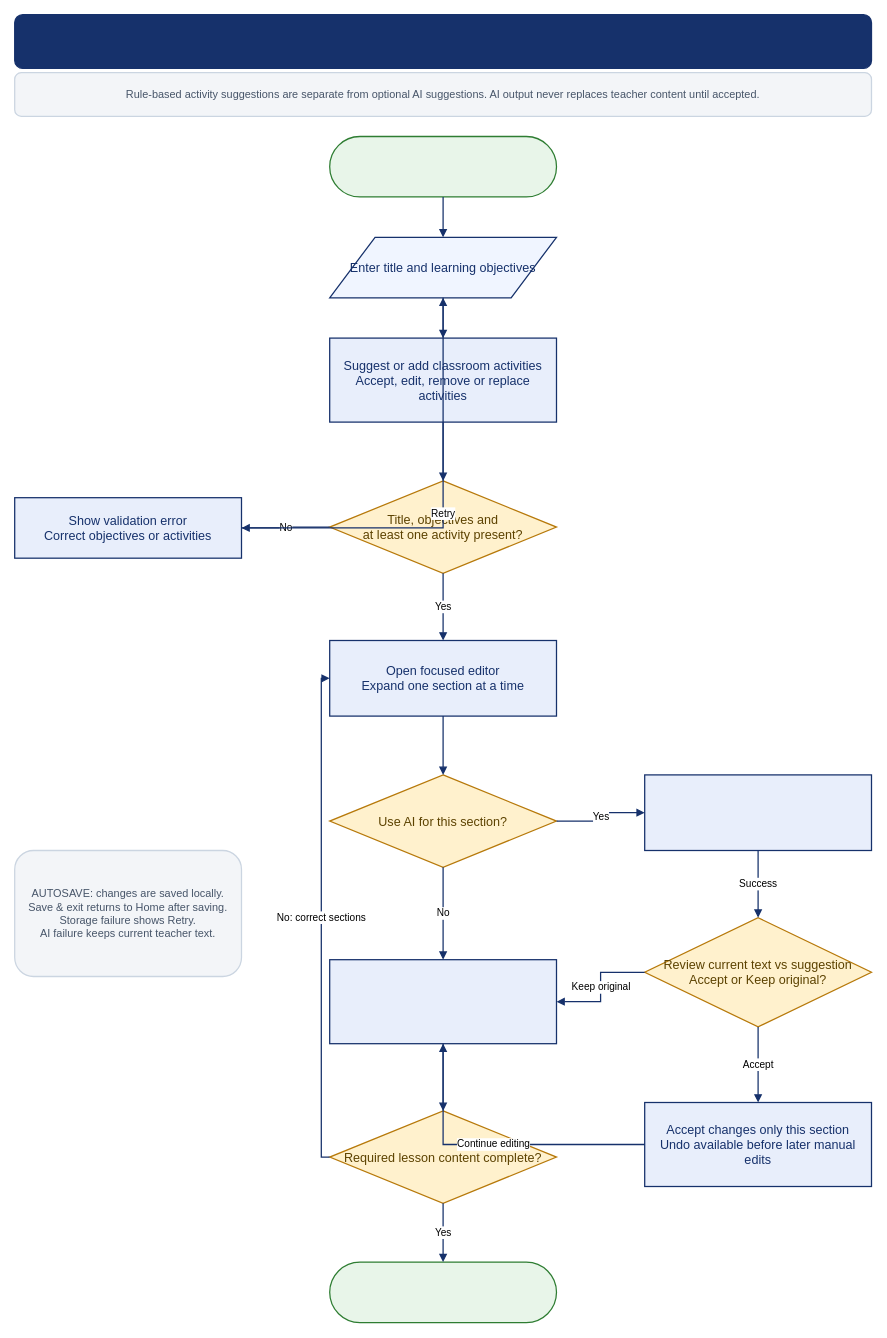
Image size: 887x1338. Some labels were removed from this diagram. Here are the shapes that lost their labels. From the top down, the centre of each, then its label:
At [443,41]: "Module 4 | Activities and Focused Editor".
At [443,166]: "START: Setup completed".
At [758,812]: "Request suggestion from backend Internet / configured AI required".
At [443,1001]: "Write / edit teacher content Required lesson sections checked".
At [443,1292]: "Continue to Module 6: Review".
